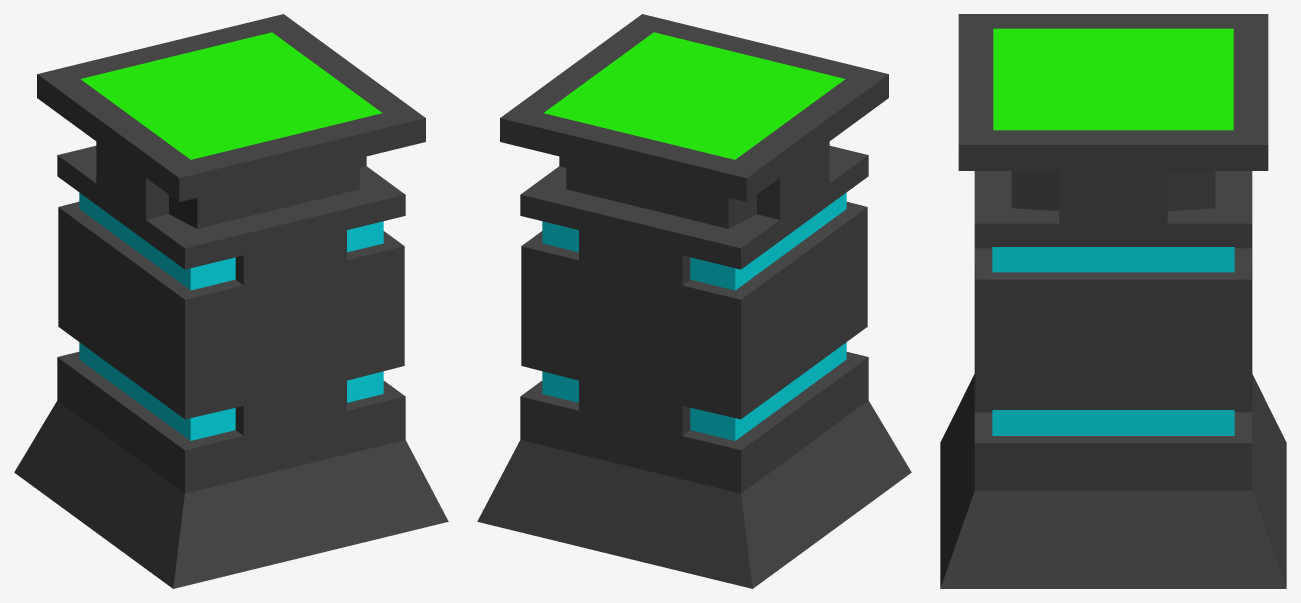
File: Deco Short Pillar.fbx
3 views of the same model, side by side, from view 1: azimuth 30°, elevation 25°; view 2: azimuth 150°, elevation 25°; view 3: azimuth 270°, elevation 25° (orthographic). The views are drawn at different scales.
Parts seen in each view (by area): view 1: Deco Short Pillar; view 2: Deco Short Pillar; view 3: Deco Short Pillar.
Part boxes in pixels (x1=…): Deco Short Pillar: x1=14, y1=14, x2=448, y2=588; Deco Short Pillar: x1=477, y1=14, x2=911, y2=588; Deco Short Pillar: x1=940, y1=14, x2=1286, y2=588.
Bounding box in the file's own units: 137 × 190 × 137.
